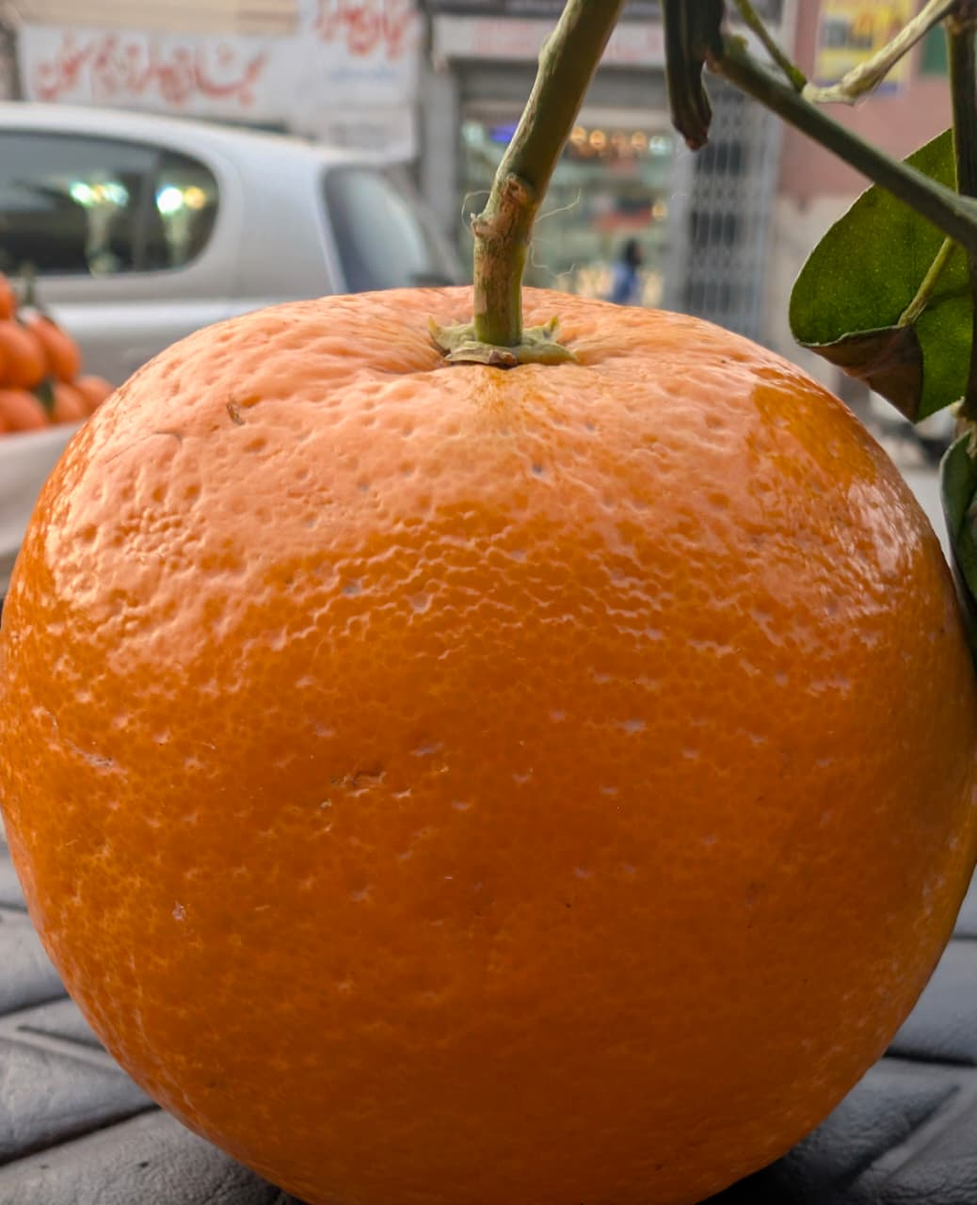orange: (0, 226, 834, 1176)
